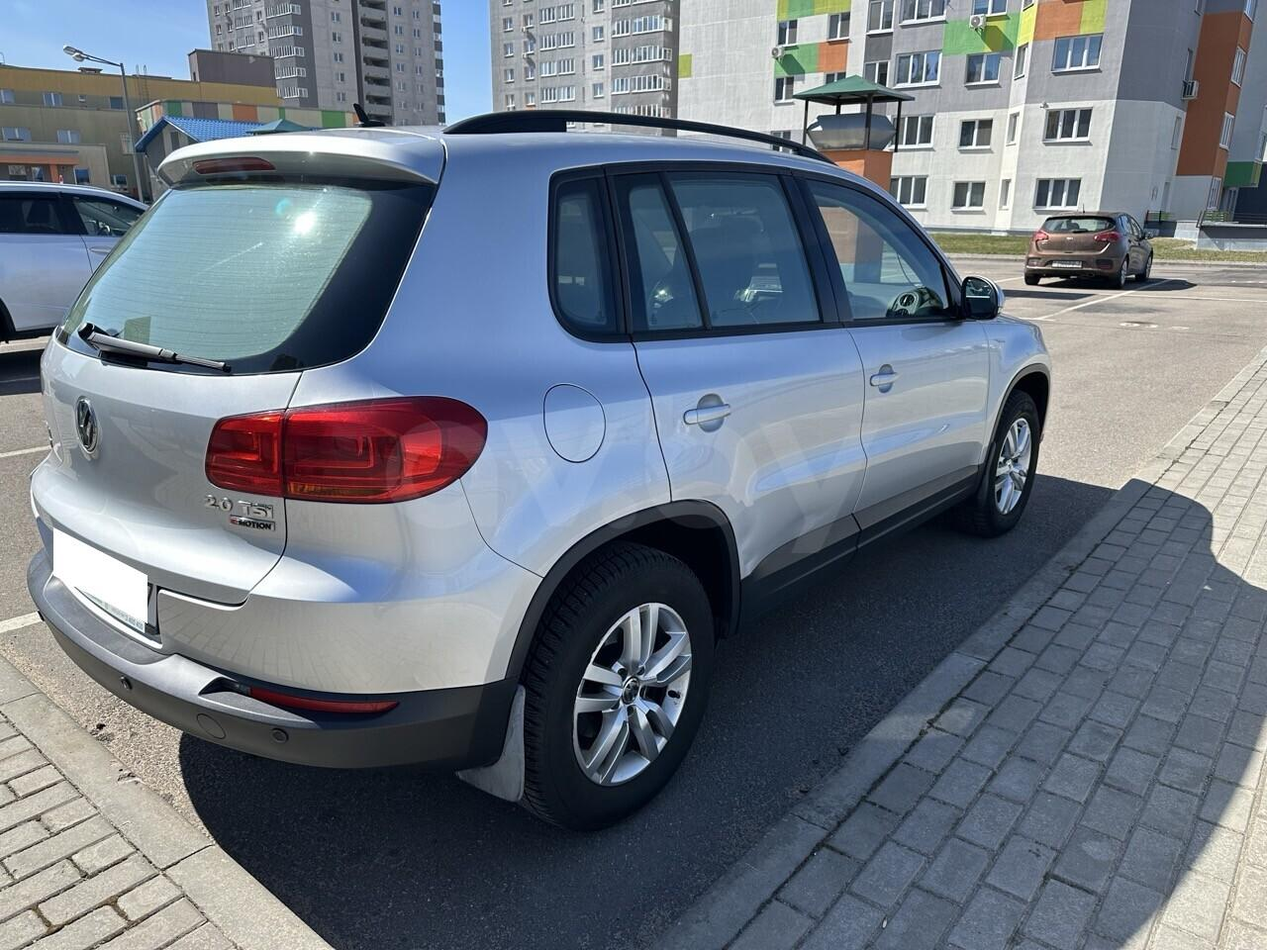Tiguan_2011-2018: (27, 118, 1055, 805)
